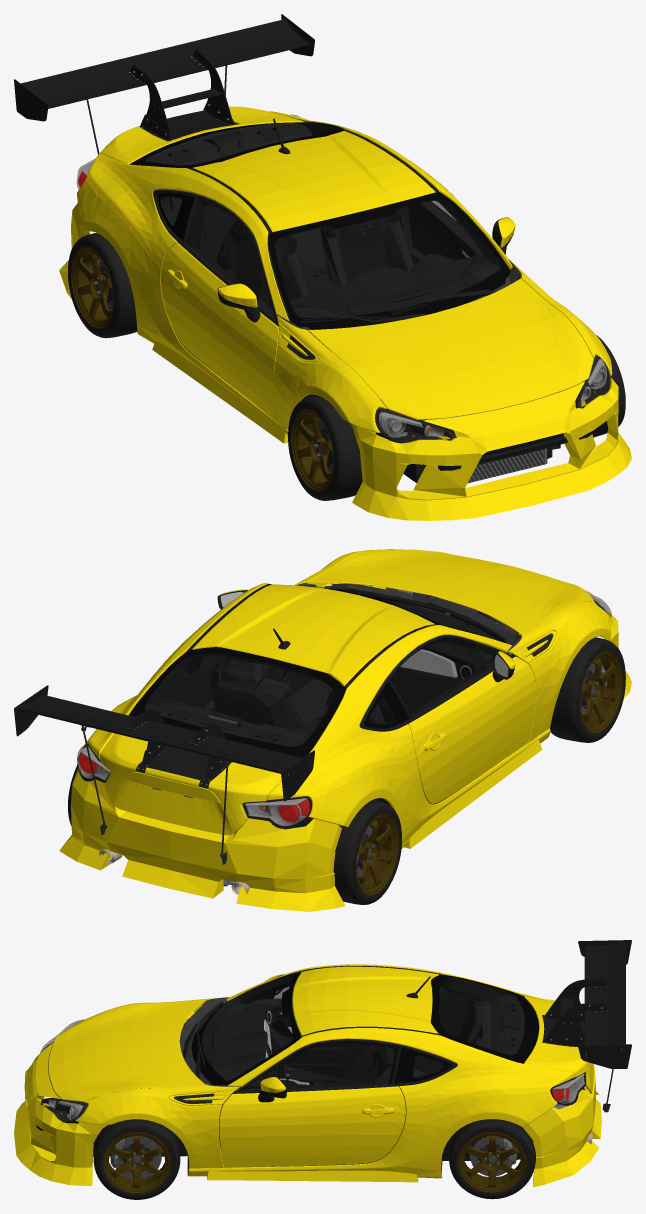
File: BRZ_URAS_Yellow2.glb
The picture shows the model from 3 angles, top to bottom: view 1: azimuth 30°, elevation 25°; view 2: azimuth 150°, elevation 25°; view 3: azimuth 270°, elevation 25°; orthographic projection. The views are drawn at different scales.
Visible parts, largest first — view 1: S1:Hood6_Mesh_022_M_Engine_Max_004_S1:M_CarPaint_Max1_0, S1:Interior5_Mesh_006_M_Interior_Max_S1:M_Interior_Max1_0, URAS_Object_10, S1:Glass6_Mesh_005_M_Opaque_PlasticRoughBlack_Max4_S1:M_Glas, S1:FendersR6_Mesh_019_M_CarPaint_Max_006_S1:M_CarPaint_Max1_, S1:Chassis7_Mesh_M_Opaque_PlasticSmoothBlack_Max_S1:M_CarPai, subaru:Wing6a_Carbon1_Geo_lodA_Wing6a_Carbon1_Geo_lodA_Subar, S1:DoorR4_Mesh_003_M_Opaque_PlasticSmoothBlack_Max1_S1:M_Car, S1:FenderFR6_Mesh_016_M_Opaque_PlasticRoughBlack_Max_008_S1:, S1:Glass6_Mesh_005_M_Opaque_PlasticRoughBlack_Max8_S1:Glass_, S1:DoorR_Glass4_Mesh_004_M_Glass_WindowRight_Low_S1:M_Glass_, S1:Glass6_Mesh_005_M_Opaque_PlasticRoughBlack_Max1_S1:M_Glas (+18 smaller); view 2: URAS_Object_8, S1:Interior5_Mesh_006_M_Interior_Max_S1:M_Interior_Max1_0, S1:FendersR6_Mesh_019_M_CarPaint_Max_006_S1:M_CarPaint_Max1_, S1:Chassis7_Mesh_M_Opaque_PlasticSmoothBlack_Max_S1:M_CarPai, S1:Glass6_Mesh_005_M_Opaque_PlasticRoughBlack_Max1_S1:M_Glas, S1:Hood6_Mesh_022_M_Engine_Max_004_S1:M_CarPaint_Max1_0, S1:DoorR4_Mesh_003_M_Opaque_PlasticSmoothBlack_Max1_S1:M_Car, subaru:Wing6a_Paint_Geo_lodA_Wing6a_Paint_Geo_lodA_Subaru_BR, subaru:Wing6a_Carbon1_Geo_lodA_Wing6a_Carbon1_Geo_lodA_Subar, S1:FenderFR6_Mesh_016_M_Opaque_PlasticRoughBlack_Max_008_S1:, S1:DoorR_Glass4_Mesh_004_M_Glass_WindowRight_Low_S1:M_Glass_, S1:Glass6_Mesh_005_M_Opaque_PlasticRoughBlack_Max7_S1:Glass_ (+17 smaller); view 3: S1:FendersR6_Mesh_019_M_CarPaint_Max_006_S1:M_CarPaint_Max1_, S1:Interior5_Mesh_006_M_Interior_Max_S1:M_Interior_Max1_0, S1:DoorL4_Mesh_001_M_Opaque_PlasticSmoothBlack_Max3_S1:M_Car, S1:Hood6_Mesh_022_M_Engine_Max_004_S1:M_CarPaint_Max1_0, S1:Chassis7_Mesh_M_Opaque_PlasticSmoothBlack_Max_S1:M_CarPai, subaru:Wing6a_Carbon1_Geo_lodA_Wing6a_Carbon1_Geo_lodA_Subar, S1:FenderFL6_Mesh_015_M_Opaque_PlasticRoughBlack_Max_007_S1:, URAS_Object_10, S1:Glass6_Mesh_005_M_Opaque_PlasticRoughBlack_Max4_S1:M_Glas, S1:Glass6_Mesh_005_M_Opaque_PlasticRoughBlack_Max1_S1:M_Glas, URAS_Object_8, S1:DoorL_Glass4_Mesh_002_M_Glass_WindowLeft_Low_S1:M_Glass_W (+20 smaller).
Part boxes in pixels (box(x1,y1,x2,y2)): S1:Hood6_Mesh_022_M_Engine_Max_004_S1:M_CarPaint_Max1_0: box(308, 278, 593, 419); S1:Interior5_Mesh_006_M_Interior_Max_S1:M_Interior_Max1_0: box(145, 123, 500, 387); URAS_Object_10: box(351, 377, 631, 520); S1:Glass6_Mesh_005_M_Opaque_PlasticRoughBlack_Max4_S1:M_Glas: box(275, 200, 500, 317); S1:FendersR6_Mesh_019_M_CarPaint_Max_006_S1:M_CarPaint_Max1_: box(77, 111, 512, 424); S1:Chassis7_Mesh_M_Opaque_PlasticSmoothBlack_Max_S1:M_CarPai: box(193, 130, 435, 231); subaru:Wing6a_Carbon1_Geo_lodA_Wing6a_Carbon1_Geo_lodA_Subar: box(14, 14, 314, 139); S1:DoorR4_Mesh_003_M_Opaque_PlasticSmoothBlack_Max1_S1:M_Car: box(161, 242, 278, 420); S1:FenderFR6_Mesh_016_M_Opaque_PlasticRoughBlack_Max_008_S1:: box(274, 316, 387, 436); S1:Glass6_Mesh_005_M_Opaque_PlasticRoughBlack_Max8_S1:Glass_: box(268, 192, 509, 329); S1:DoorR_Glass4_Mesh_004_M_Glass_WindowRight_Low_S1:M_Glass_: box(185, 198, 273, 316); S1:Glass6_Mesh_005_M_Opaque_PlasticRoughBlack_Max1_S1:M_Glas: box(145, 123, 333, 165); URAS_Object_8: box(59, 768, 345, 911); S1:Interior5_Mesh_006_M_Interior_Max_S1:M_Interior_Max1_0: box(145, 595, 509, 804); S1:FendersR6_Mesh_019_M_CarPaint_Max_006_S1:M_CarPaint_Max1_: box(77, 583, 528, 848); S1:Chassis7_Mesh_M_Opaque_PlasticSmoothBlack_Max_S1:M_CarPai: box(192, 584, 434, 686); S1:Glass6_Mesh_005_M_Opaque_PlasticRoughBlack_Max1_S1:M_Glas: box(145, 654, 342, 746); S1:Hood6_Mesh_022_M_Engine_Max_004_S1:M_CarPaint_Max1_0: box(308, 549, 593, 633); S1:DoorR4_Mesh_003_M_Opaque_PlasticSmoothBlack_Max1_S1:M_Car: box(409, 656, 536, 803); subaru:Wing6a_Paint_Geo_lodA_Wing6a_Paint_Geo_lodA_Subaru_BR: box(100, 733, 281, 835); subaru:Wing6a_Carbon1_Geo_lodA_Wing6a_Carbon1_Geo_lodA_Subar: box(14, 685, 314, 801); S1:FenderFR6_Mesh_016_M_Opaque_PlasticRoughBlack_Max_008_S1:: box(507, 601, 612, 746); S1:DoorR_Glass4_Mesh_004_M_Glass_WindowRight_Low_S1:M_Glass_: box(390, 638, 494, 717); S1:Glass6_Mesh_005_M_Opaque_PlasticRoughBlack_Max7_S1:Glass_: box(129, 647, 345, 757); S1:FendersR6_Mesh_019_M_CarPaint_Max_006_S1:M_CarPaint_Max1_: box(224, 964, 574, 1178); S1:Interior5_Mesh_006_M_Interior_Max_S1:M_Interior_Max1_0: box(202, 975, 525, 1166); S1:DoorL4_Mesh_001_M_Opaque_PlasticSmoothBlack_Max3_S1:M_Car: box(219, 1086, 405, 1167); S1:Hood6_Mesh_022_M_Engine_Max_004_S1:M_CarPaint_Max1_0: box(48, 1000, 204, 1101); S1:Chassis7_Mesh_M_Opaque_PlasticSmoothBlack_Max_S1:M_CarPai: box(292, 966, 438, 1035); subaru:Wing6a_Carbon1_Geo_lodA_Wing6a_Carbon1_Geo_lodA_Subar: box(544, 940, 631, 1068); S1:FenderFL6_Mesh_015_M_Opaque_PlasticRoughBlack_Max_007_S1:: box(75, 1084, 239, 1176); URAS_Object_10: box(14, 1042, 107, 1185); S1:Glass6_Mesh_005_M_Opaque_PlasticRoughBlack_Max4_S1:M_Glas: box(202, 975, 292, 1080); S1:Glass6_Mesh_005_M_Opaque_PlasticRoughBlack_Max1_S1:M_Glas: box(431, 978, 524, 1054); URAS_Object_8: box(523, 1064, 601, 1187); S1:DoorL_Glass4_Mesh_002_M_Glass_WindowLeft_Low_S1:M_Glass_W: box(244, 1042, 398, 1089).
Bounding box in the file's own units: 1.87 × 1.28 × 4.24.
Materials: 28 (11 with a texture image).
